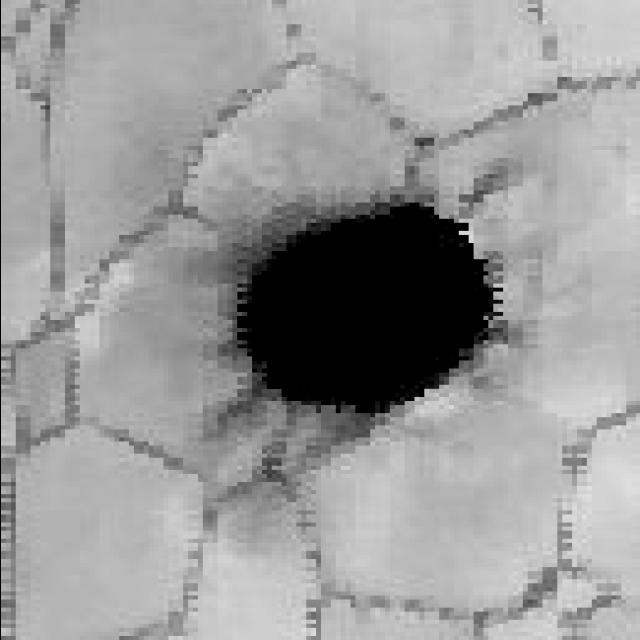good_void: (197, 158, 521, 452)
